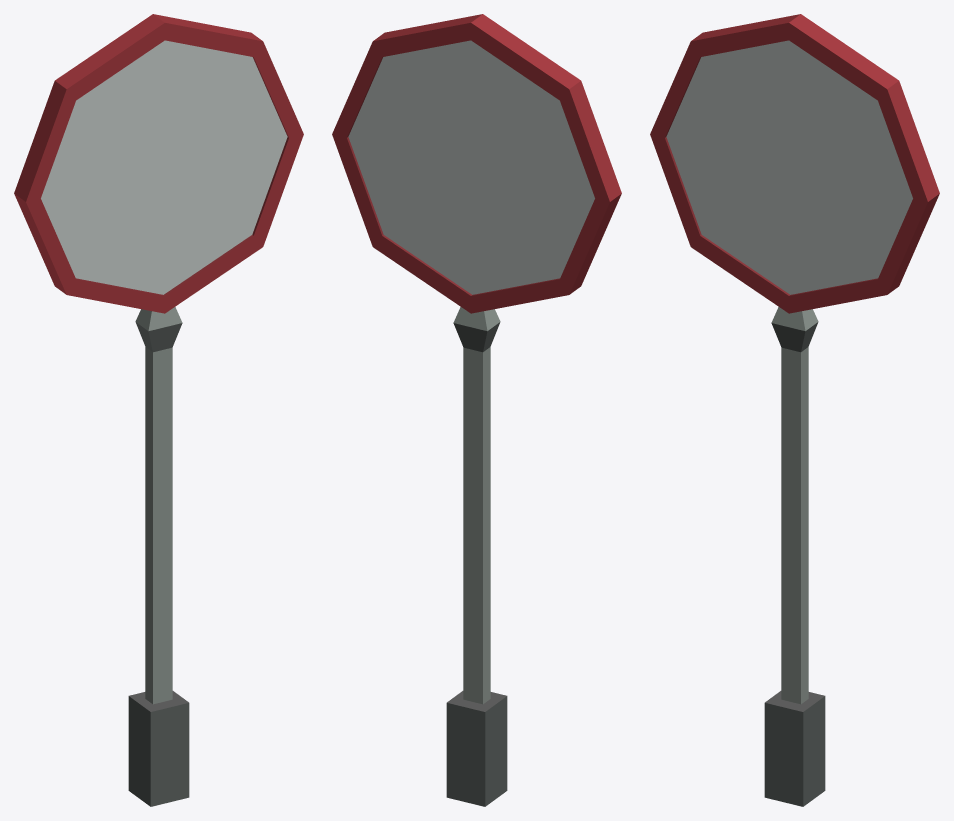
File: SignPost_Circle.glb
3 renders of one model, left to right at view 1: azimuth 30°, elevation 25°; view 2: azimuth 150°, elevation 25°; view 3: azimuth 330°, elevation 25°, orthographic.
Parts seen in each view (by area): view 1: SignPost_Circle_01; view 2: SignPost_Circle_01; view 3: SignPost_Circle_01.
Boxes of the visible parts, x1,y1,x2,y2 form: SignPost_Circle_01: [14, 14, 303, 806]; SignPost_Circle_01: [332, 14, 621, 806]; SignPost_Circle_01: [650, 14, 939, 806].
Size of what is drawn, in the model's own units: 0.9347 by 2.49 by 0.1293.
Materials: 1 (1 with a texture image).
